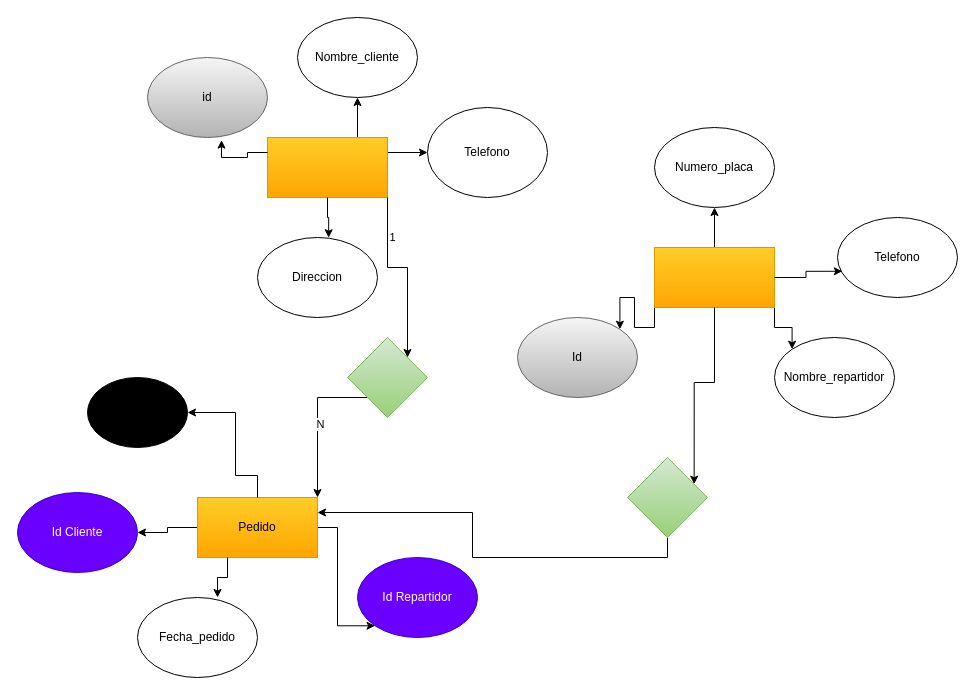
Image size: 975x695. Some labels were removed from this diagram. Each missing label, with the centre of its shape:
"Cliente" goes at point 327,167.
"Entrega" goes at point 667,497.
"Realiza" goes at point 387,377.
"Repartidor" goes at point 714,277.
